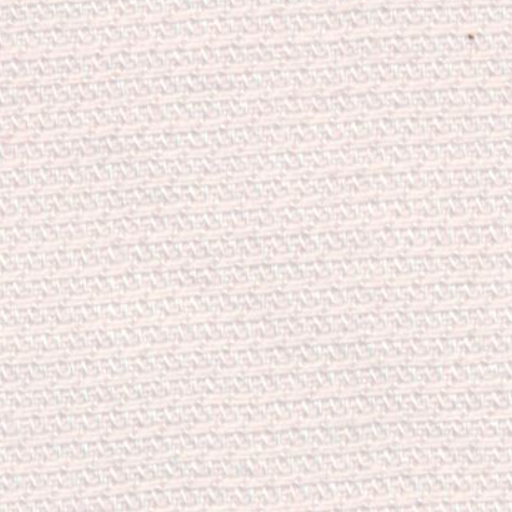WuZi: (452, 19, 488, 58)
